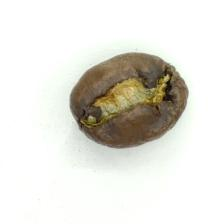NG: (83, 64, 179, 133)
